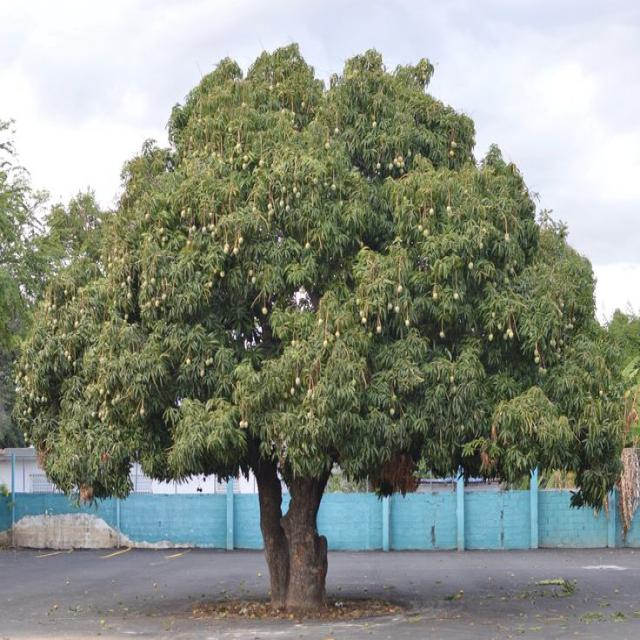Mango-Tree: (71, 49, 576, 586)
